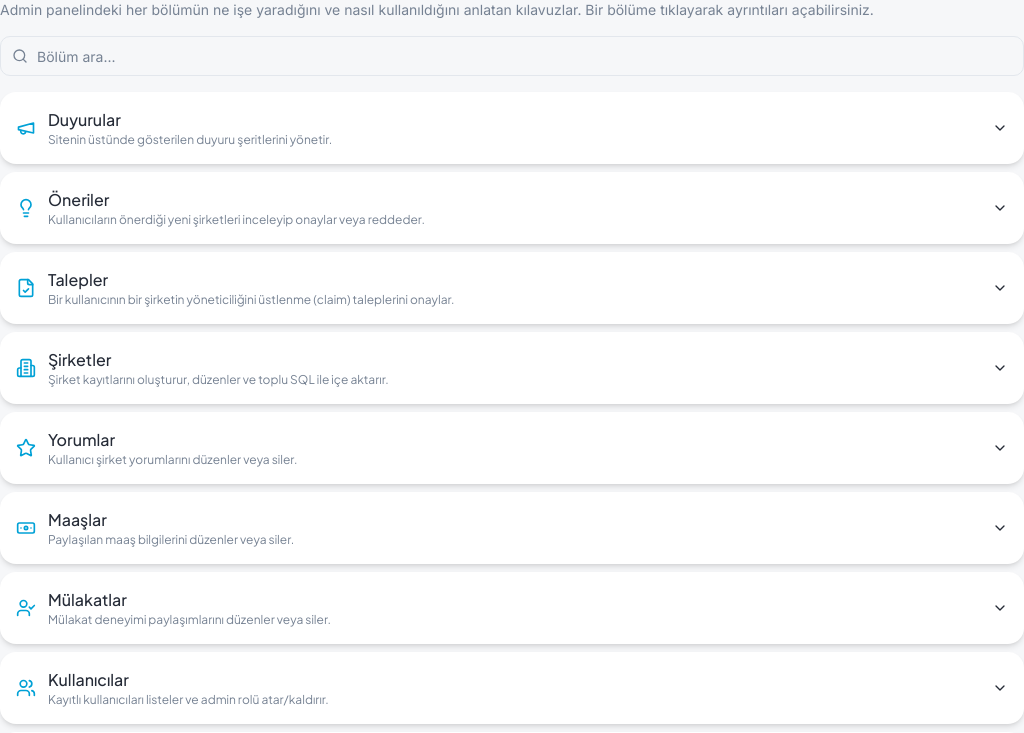
AdminGuides › filters guides by the search query
This screenshot has width=1024, height=733.
Type "Maaş" into the field named "Kılavuzlarda ara" at (512, 56), box [0, 36, 1023, 76]
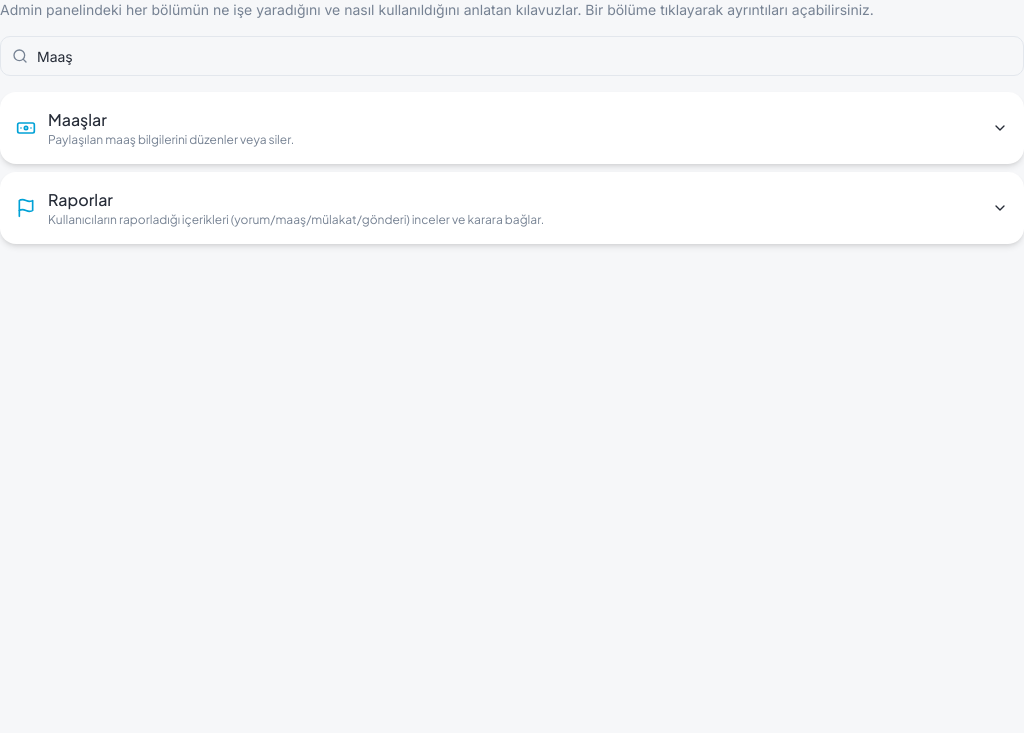
Expected: the text "Maaşlar" is shown, [48, 109, 107, 130]
Expected: the button "Duyurular" is gone
